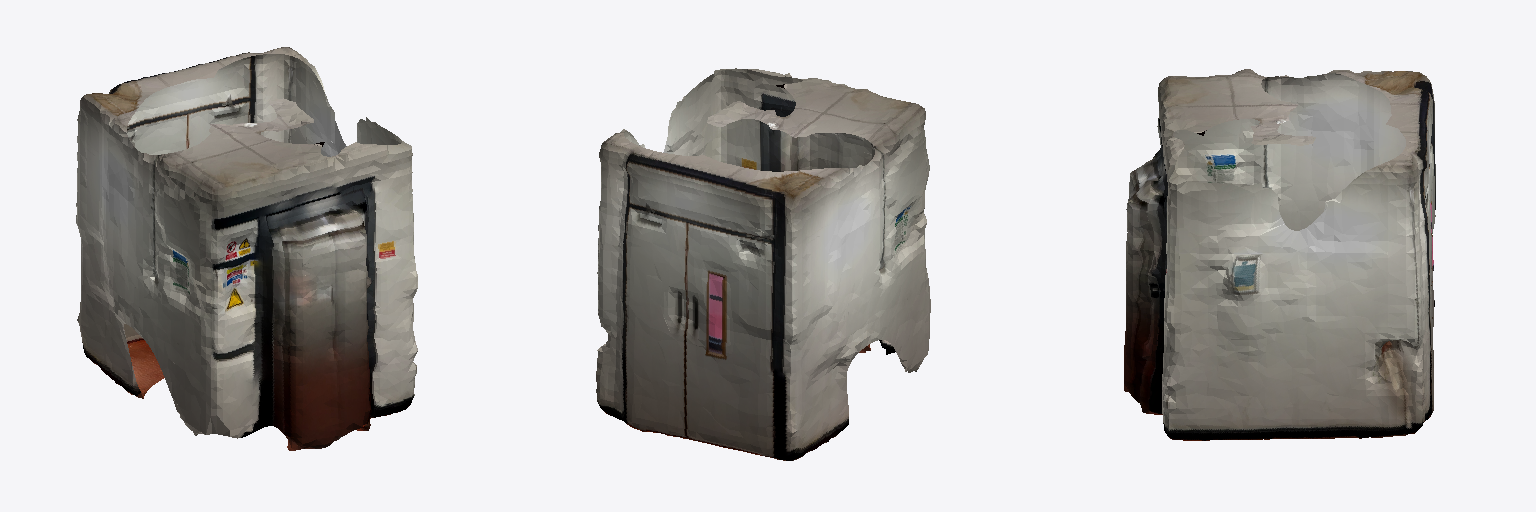
The picture shows the model from 3 angles: view 1: azimuth 30°, elevation 25°; view 2: azimuth 150°, elevation 25°; view 3: azimuth 270°, elevation 25°; orthographic projection.
Bounding box in the file's own units: 2.23 × 2.63 × 2.67.
1 materials, 1 textured.